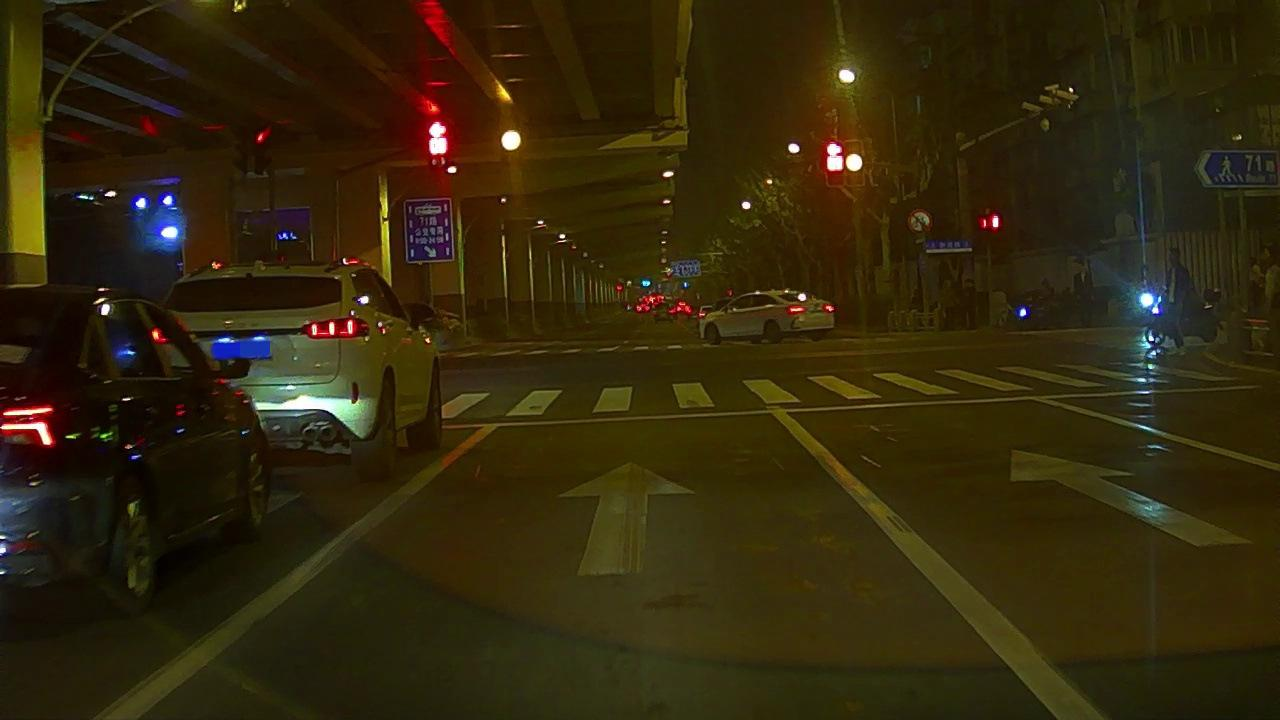traffic_light: (428, 120, 447, 166), (848, 140, 864, 186), (826, 143, 843, 184), (502, 129, 522, 151)
